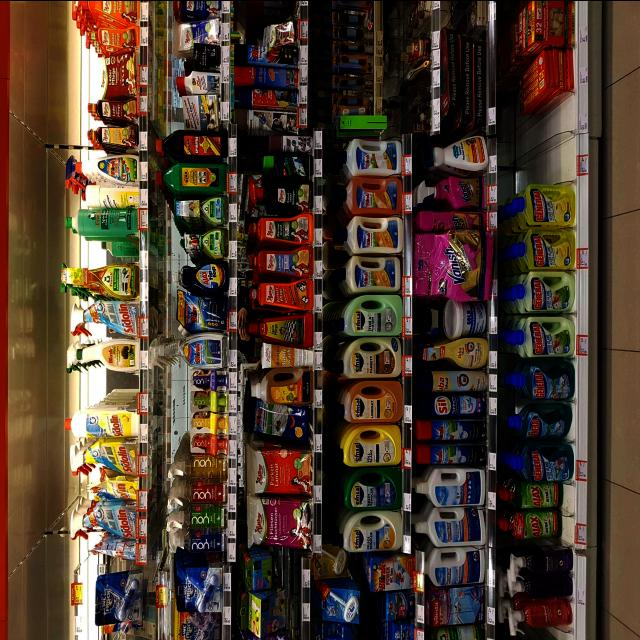empty_space: (507, 101, 569, 139), (503, 151, 570, 178), (78, 375, 138, 402)
